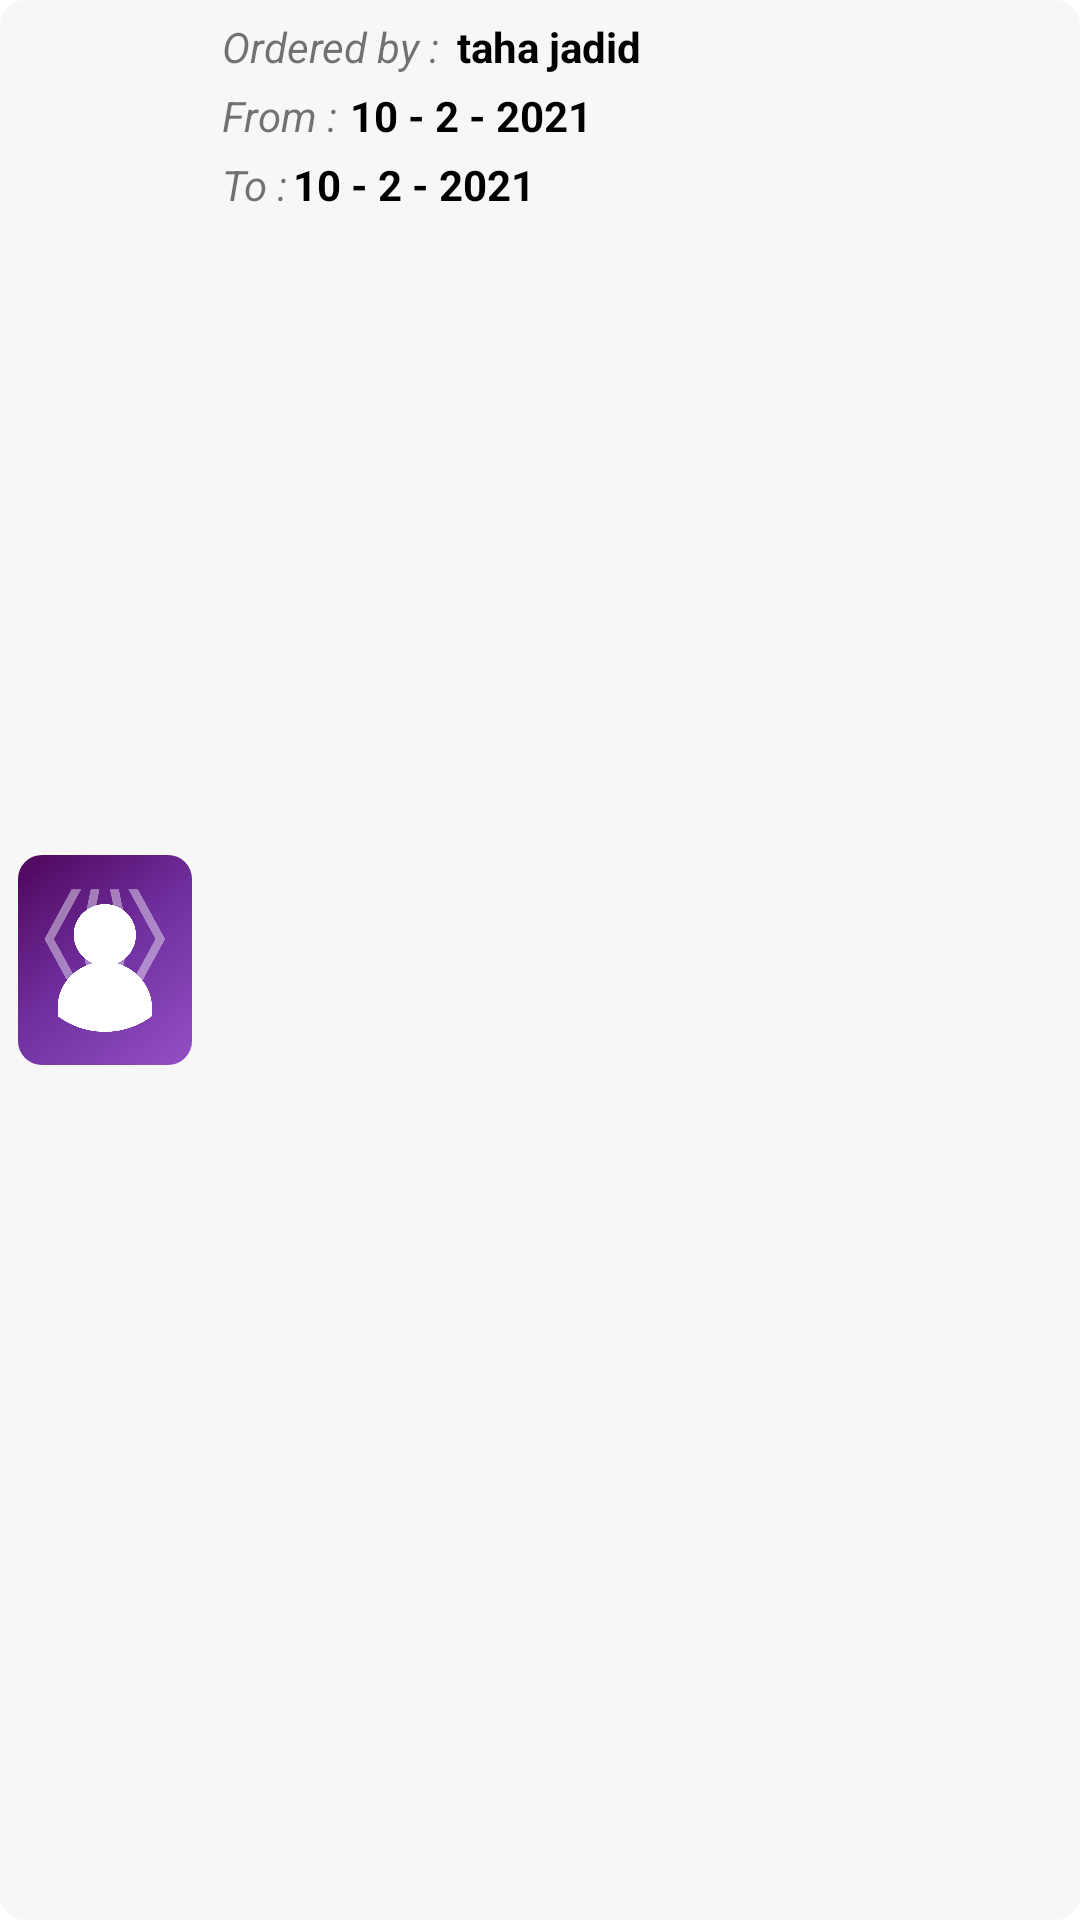

Screen size 1080×1920. Icon name, then its center in pixels as (x=x, y=y):
person for login: (x=105, y=960)
